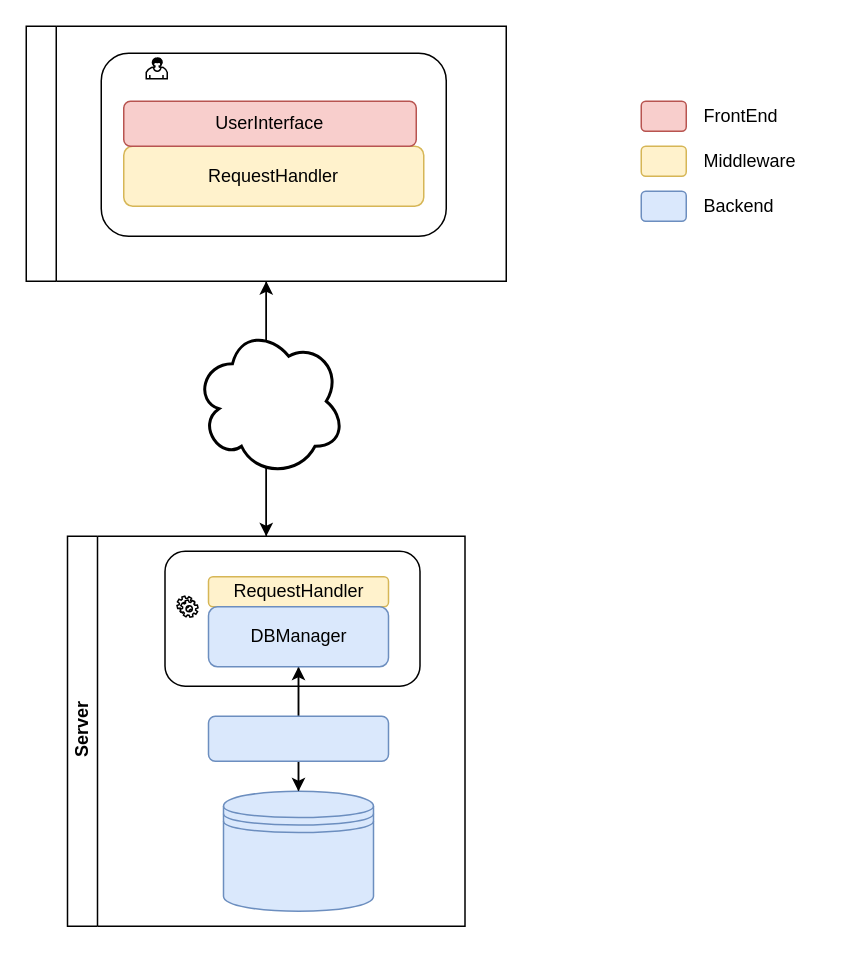
This 848x953 diagram has some shape labels left out. Here are the shapes that lost their labels. From the top down, the box of each, then its label:
(25, 25, 506, 281): Client
(207, 715, 388, 761): ODBC
(222, 790, 374, 911): DB(MySQL)
